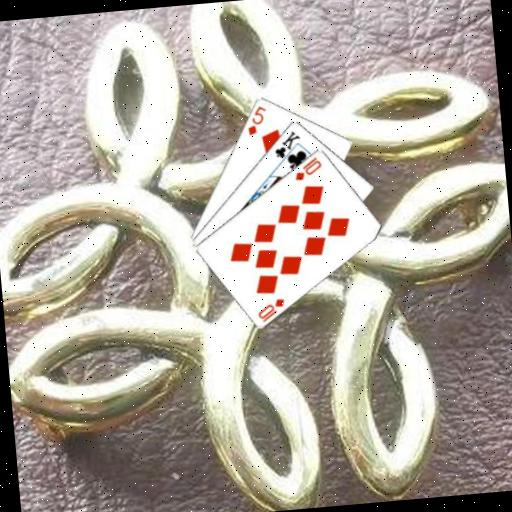10D: (290, 153, 324, 182), (254, 295, 288, 324)
5D: (243, 103, 270, 137)
KC: (270, 127, 304, 166)
